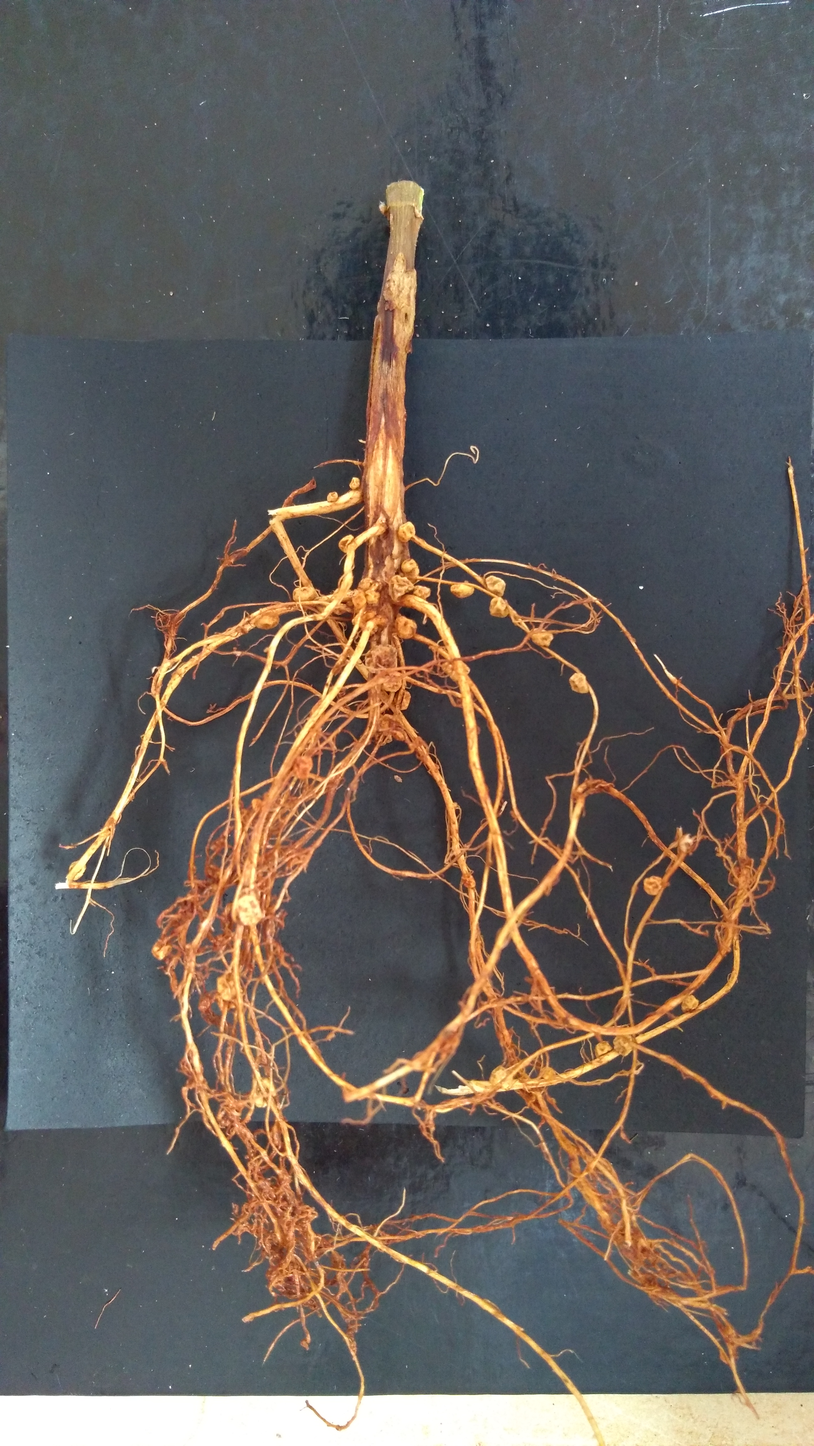nodule: (361, 643, 400, 674), (233, 894, 264, 928), (214, 969, 244, 1001), (250, 1076, 277, 1110), (386, 574, 416, 602), (610, 1031, 638, 1058), (394, 613, 420, 642), (527, 625, 555, 650), (149, 938, 174, 963), (566, 671, 590, 696), (484, 573, 507, 598), (641, 873, 666, 896), (396, 519, 418, 545), (376, 712, 404, 732), (293, 755, 314, 781), (400, 556, 423, 579), (487, 596, 510, 619), (253, 613, 281, 631), (380, 673, 404, 693), (448, 582, 476, 599), (68, 858, 88, 881), (412, 582, 433, 602), (680, 993, 700, 1014), (487, 1064, 506, 1086), (292, 585, 316, 602), (336, 532, 355, 553), (592, 1039, 613, 1058), (350, 588, 368, 610), (370, 728, 392, 746), (398, 689, 413, 711), (363, 588, 381, 606), (539, 1065, 558, 1082), (332, 601, 352, 616), (356, 576, 375, 591), (460, 873, 477, 889), (346, 475, 362, 491), (390, 729, 408, 743), (352, 612, 366, 627), (325, 490, 341, 503), (249, 797, 262, 810), (375, 613, 387, 625)
